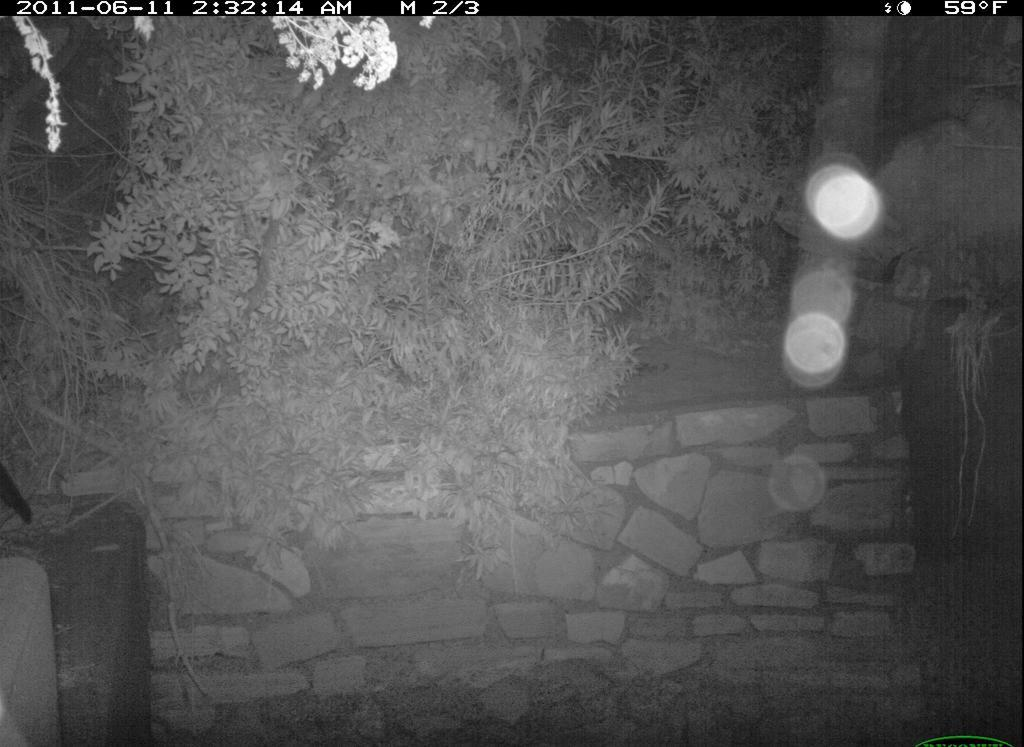cat: (2, 408, 59, 546)
